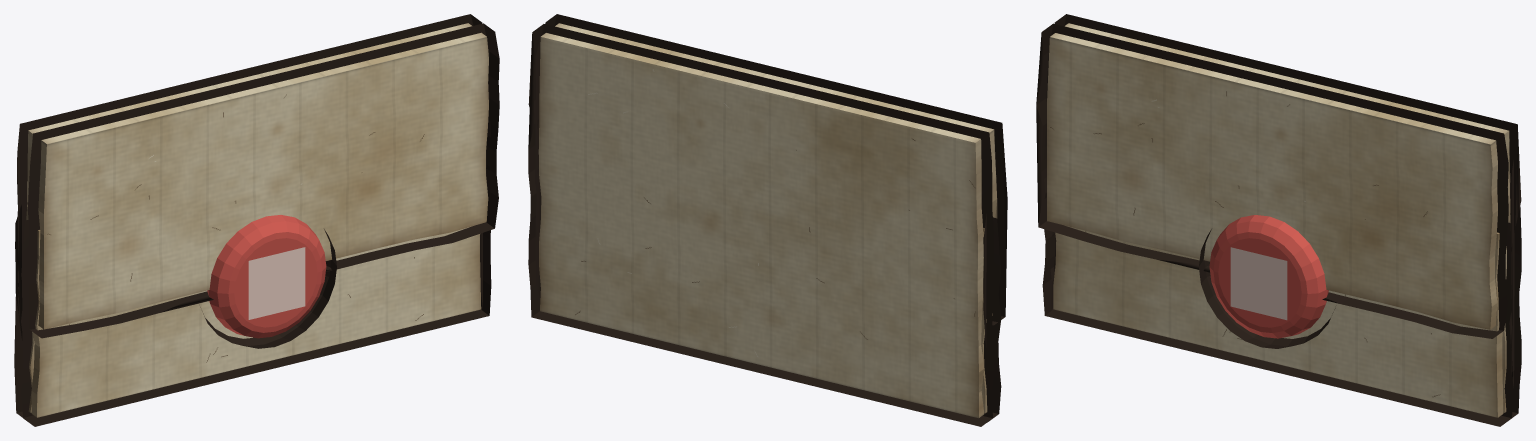
File: brief_klein.glb
3 views of the same model, side by side, from view 1: azimuth 30°, elevation 25°; view 2: azimuth 150°, elevation 25°; view 3: azimuth 330°, elevation 25° (orthographic).
Parts seen in each view (by area): view 1: Brief_klein, Brief_klein_Umriss, Siegel, Siegel_Symbol; view 2: Brief_klein, Brief_klein_Umriss; view 3: Brief_klein, Brief_klein_Umriss, Siegel, Siegel_Symbol.
Part boxes in pixels (left/top/right/bottom): Brief_klein: left=26, top=23, right=488, bottom=417; Brief_klein_Umriss: left=14, top=14, right=499, bottom=426; Siegel: left=207, top=215, right=326, bottom=338; Siegel_Symbol: left=248, top=247, right=305, bottom=319; Brief_klein: left=538, top=23, right=997, bottom=418; Brief_klein_Umriss: left=528, top=14, right=1007, bottom=426; Brief_klein: left=1047, top=23, right=1510, bottom=417; Brief_klein_Umriss: left=1036, top=14, right=1521, bottom=426; Siegel: left=1209, top=215, right=1328, bottom=338; Siegel_Symbol: left=1230, top=247, right=1287, bottom=320.
Size of the model in its own units: 0.1253 by 0.075 by 0.0173.
4 materials, 1 textured.
